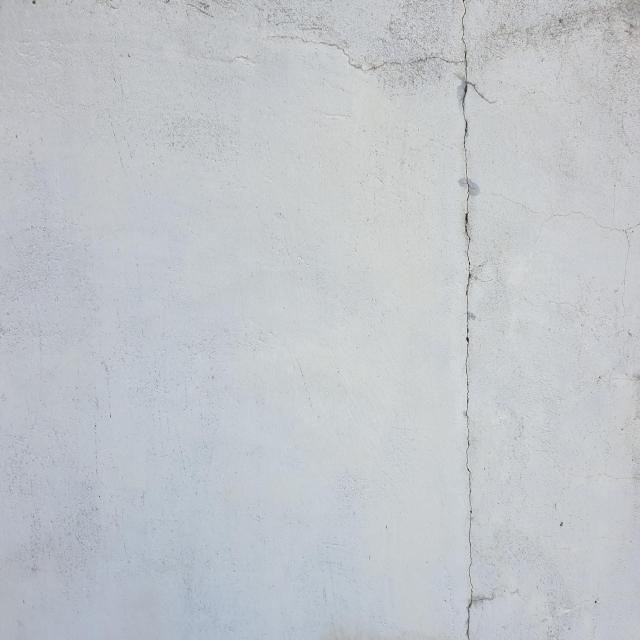SurfaceCrack: (458, 1, 477, 639)
